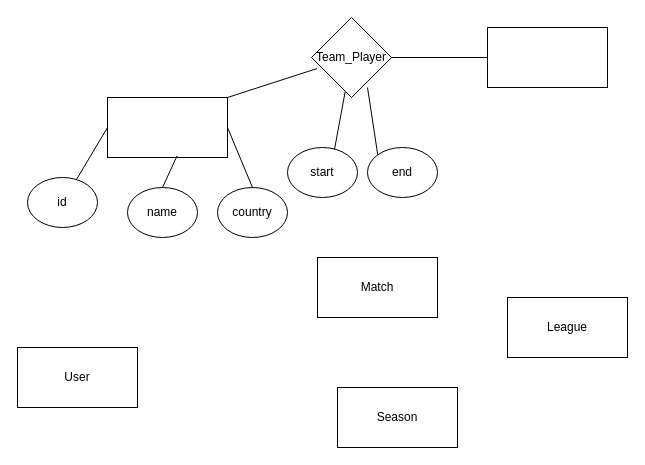
The diagram is 645 pixels wide and 465 high, and some of its shapes have lost their labels. Each missing label, with the centre of its shape:
"Player" belongs at pixel 167 127.
"Team" belongs at pixel 547 57.
